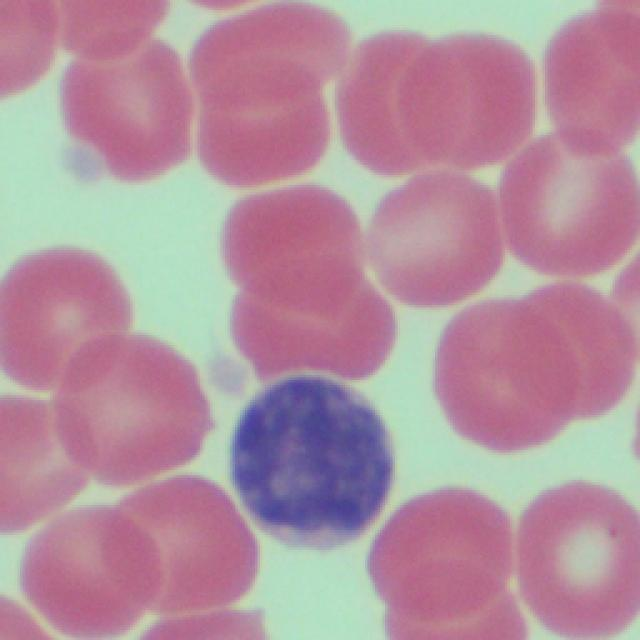RBC: (218, 177, 388, 389), (180, 0, 345, 190), (51, 0, 194, 188), (367, 470, 519, 640), (438, 295, 580, 458), (493, 124, 637, 284), (348, 168, 502, 317), (60, 325, 206, 477), (508, 474, 638, 638), (116, 471, 256, 620), (4, 244, 130, 402), (28, 502, 158, 632), (529, 0, 637, 146), (0, 381, 96, 525)
WBC: (226, 359, 391, 570)
